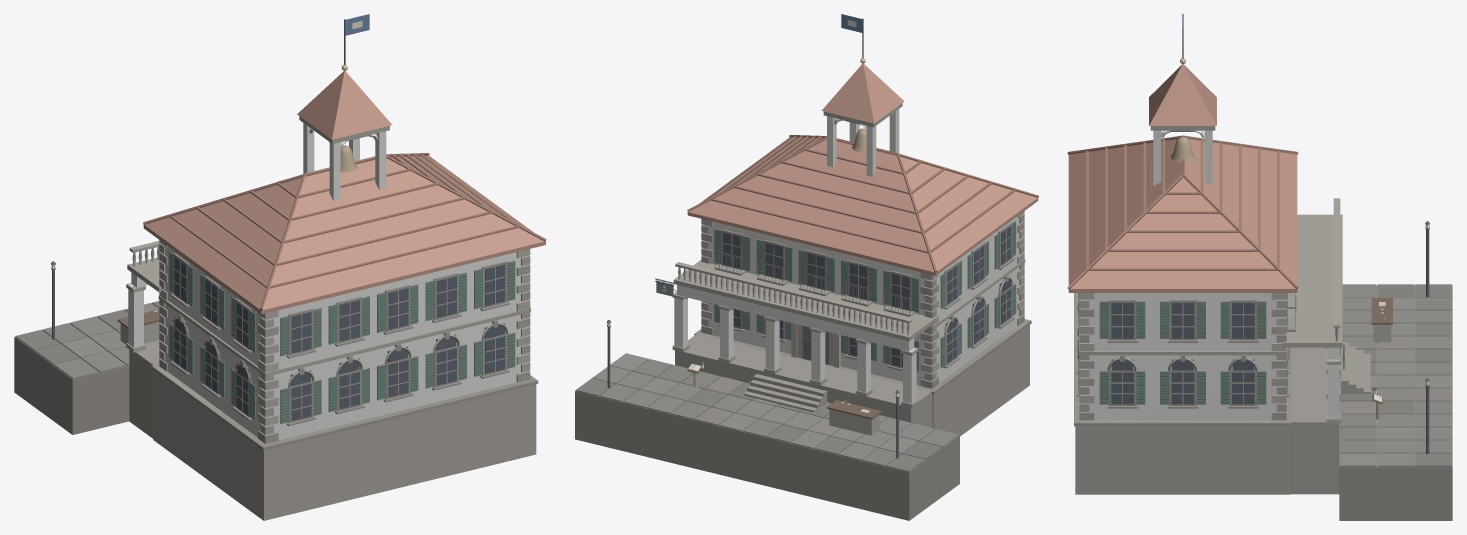
File: harbour_master_5.gltf
3 renders of one model, left to right at view 1: azimuth 30°, elevation 25°; view 2: azimuth 150°, elevation 25°; view 3: azimuth 270°, elevation 25°, orthographic. The views are drawn at different scales.
Parts seen in each view (by area): view 1: Body; view 2: Body; view 3: Body.
Part boxes in pixels (box(x1,y1,x2,y2)): Body: box(14, 14, 546, 520); Body: box(575, 14, 1038, 520); Body: box(1067, 14, 1452, 520).
Size of the model in its own units: 19 by 20.25 by 17.
